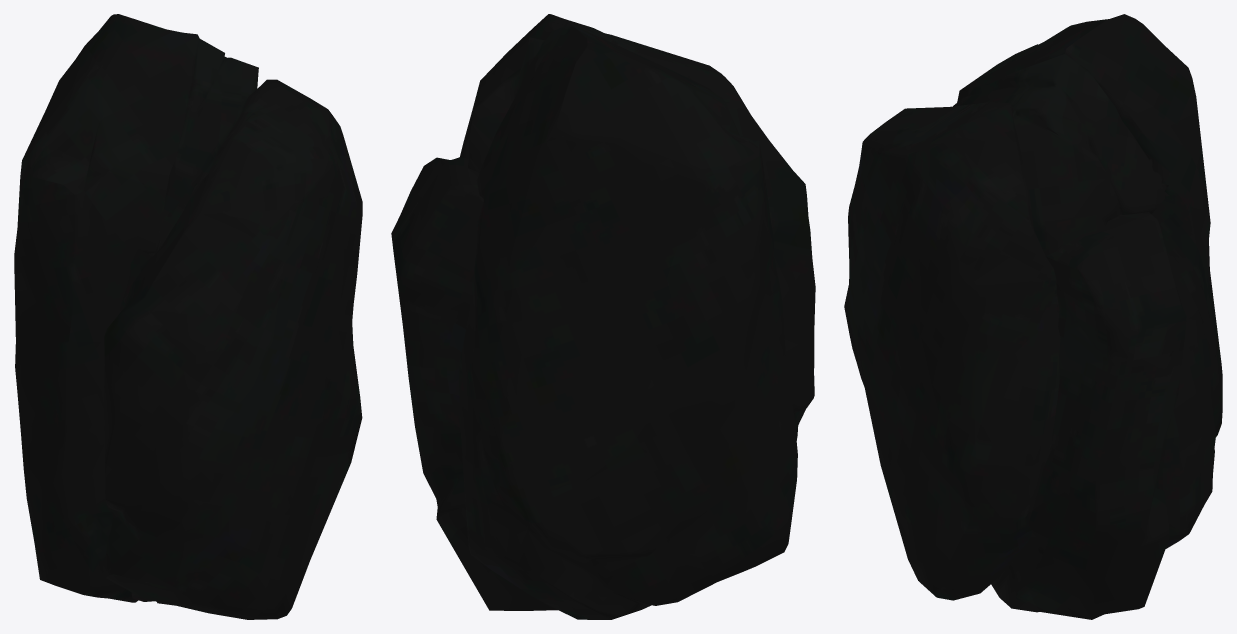
3 renders of one model, left to right at view 1: azimuth 30°, elevation 25°; view 2: azimuth 150°, elevation 25°; view 3: azimuth 270°, elevation 25°, orthographic. The views are drawn at different scales.
Visible parts, largest first — view 1: SM_LimestoneMid_01_LOD0; view 2: SM_LimestoneMid_01_LOD0; view 3: SM_LimestoneMid_01_LOD0.
Part boxes in pixels (x1=…): SM_LimestoneMid_01_LOD0: x1=14, y1=14, x2=362, y2=619; SM_LimestoneMid_01_LOD0: x1=391, y1=14, x2=815, y2=619; SM_LimestoneMid_01_LOD0: x1=844, y1=14, x2=1222, y2=619.
Bounding box in the file's own units: 3.11 × 5.14 × 3.17.
Materials: 1 (1 with a texture image).
